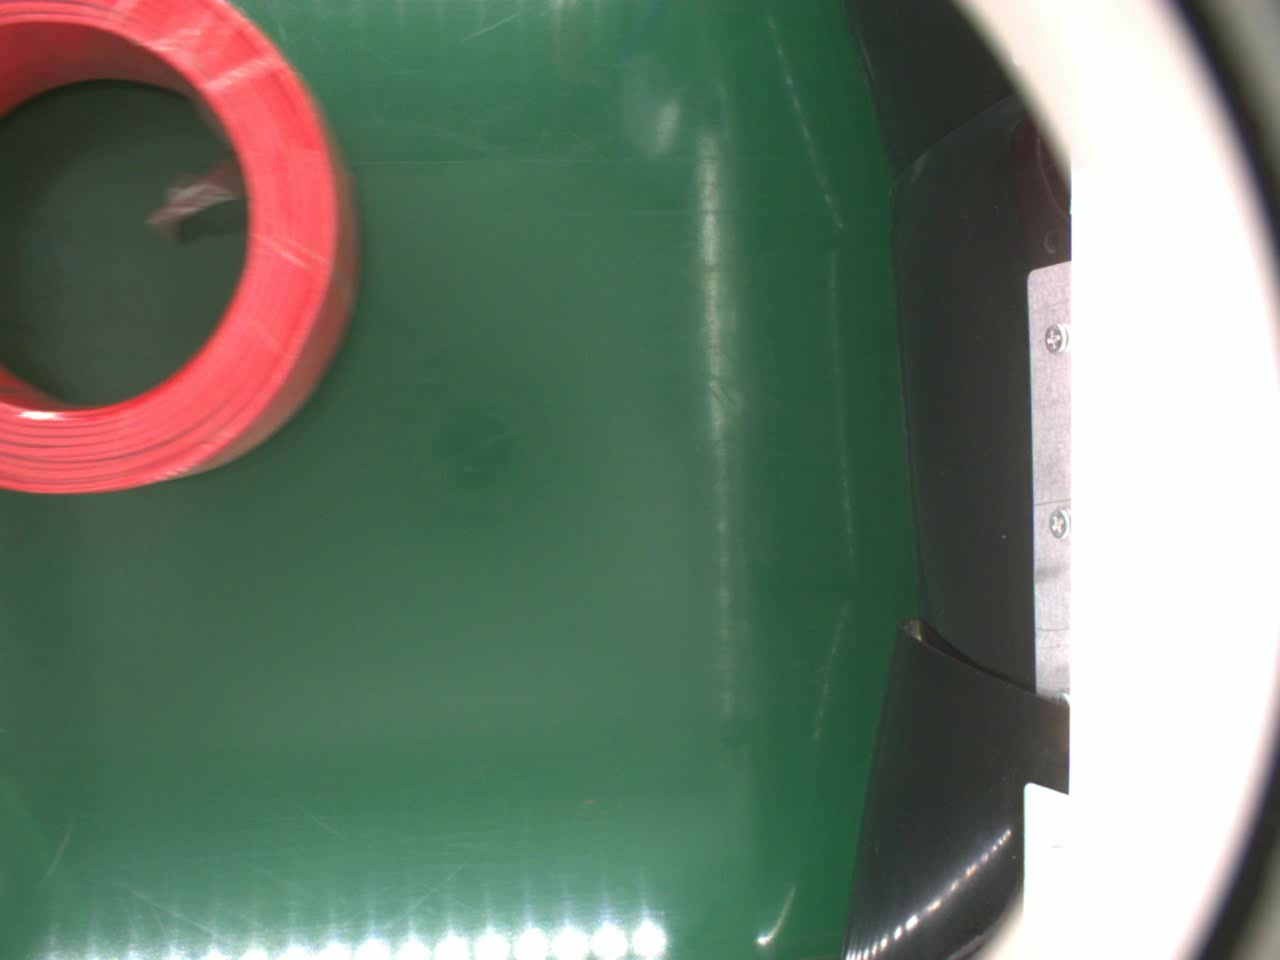red: (0, 0, 357, 499)
